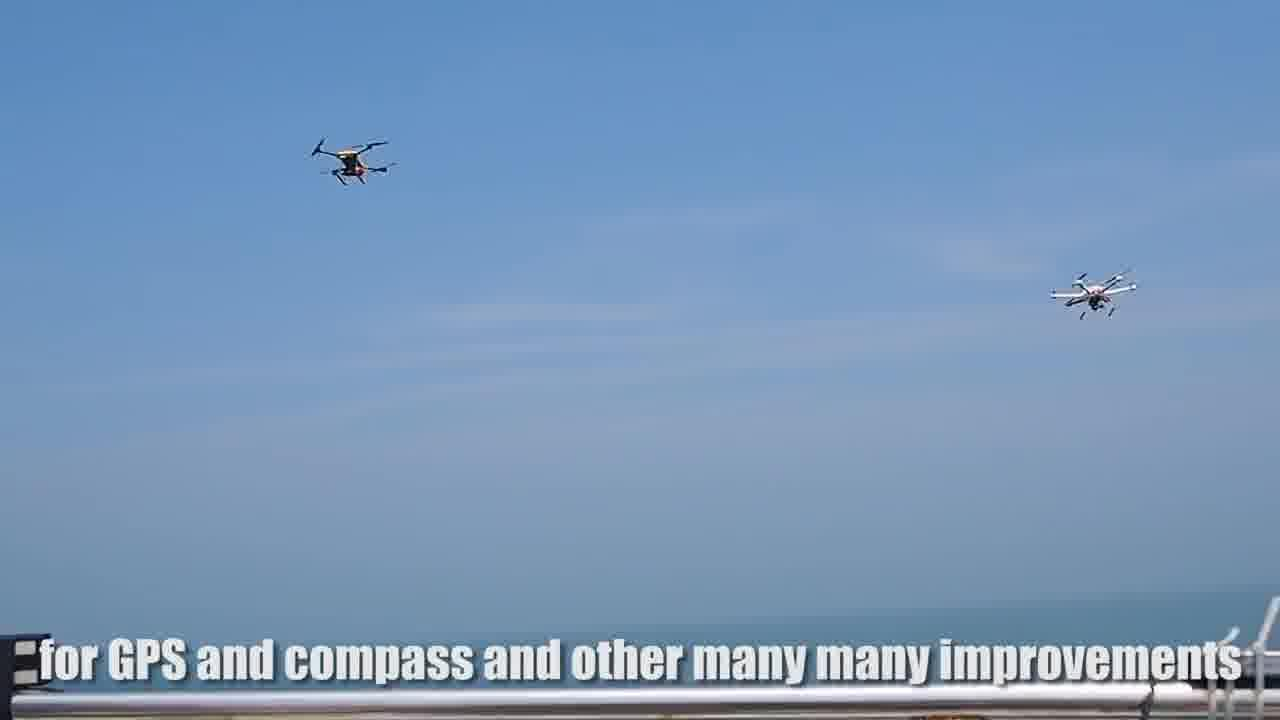drone: (293, 120, 432, 196), (1047, 255, 1145, 327)
